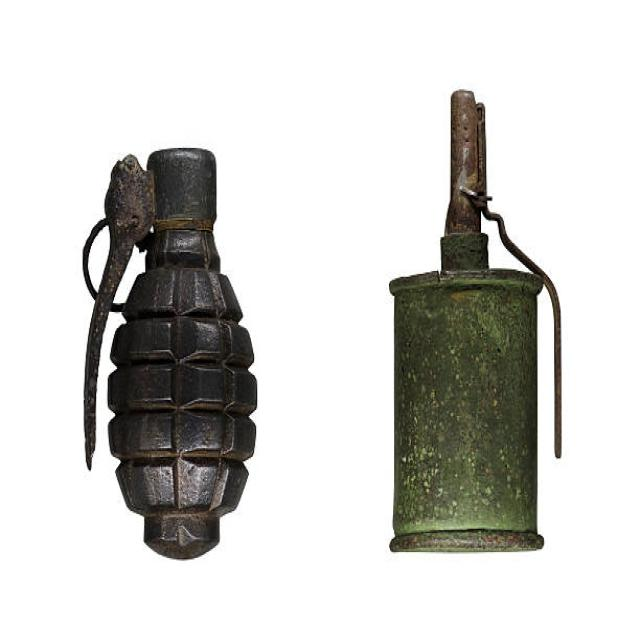grenade: (375, 86, 577, 575), (76, 138, 268, 573)
